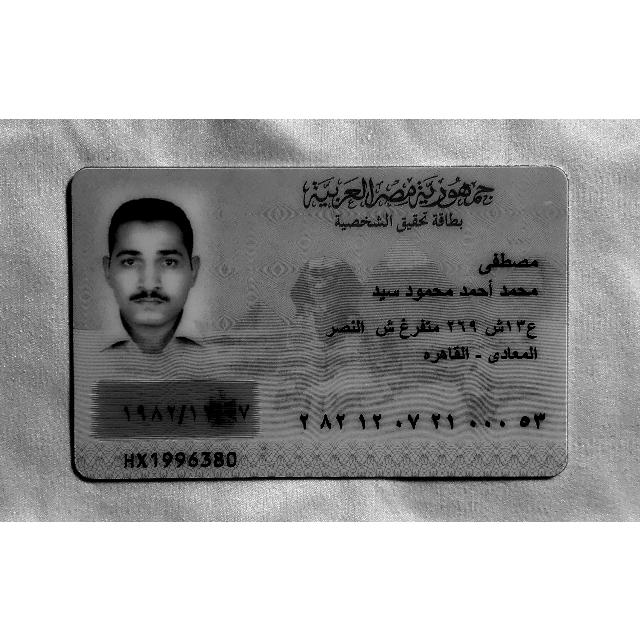front: (70, 165, 577, 478)
